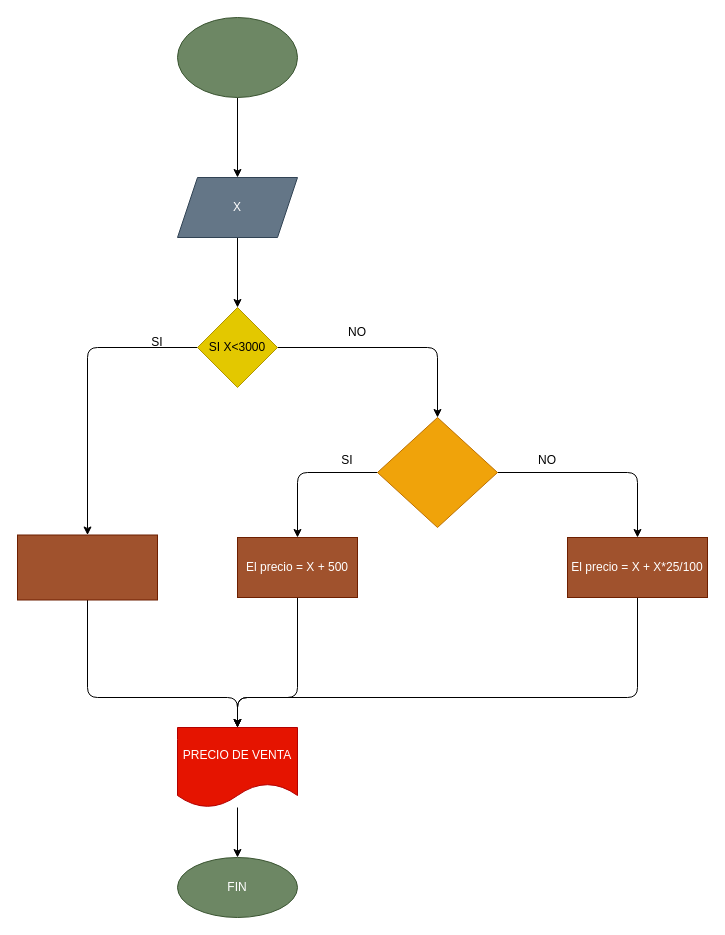
The diagram is 725 pixels wide and 935 high, and some of its shapes have lost their labels. The centre of each missing label's shape, as x and y in pixels:
"El precio = X + X*15/100" belongs at point 87,567.
"INICIO" belongs at point 237,57.
"SI 3000 < X < 6000" belongs at point 437,472.
